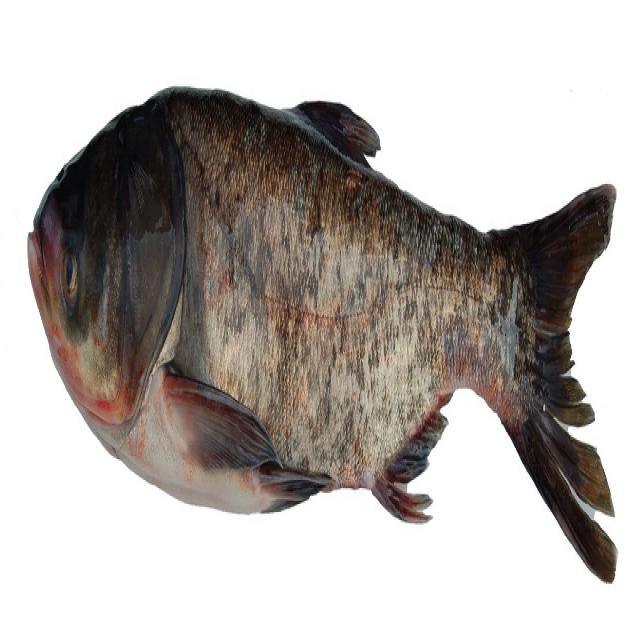Big-Head-Carp: (6, 26, 631, 611)
